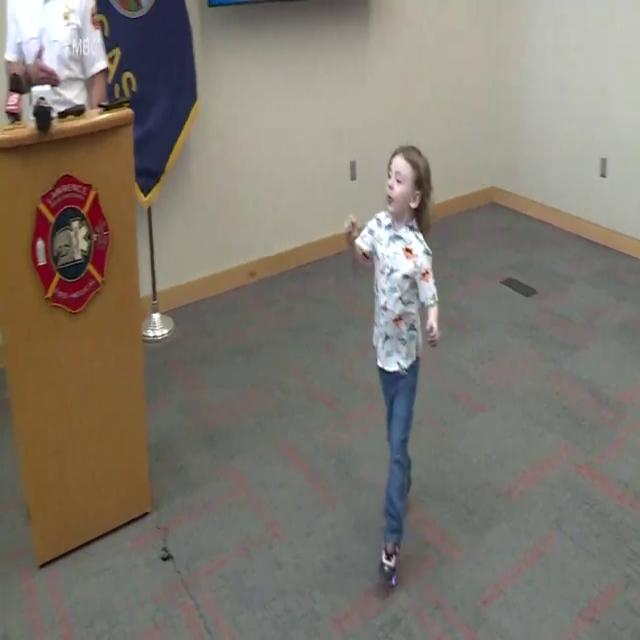child: (345, 146, 435, 588)
